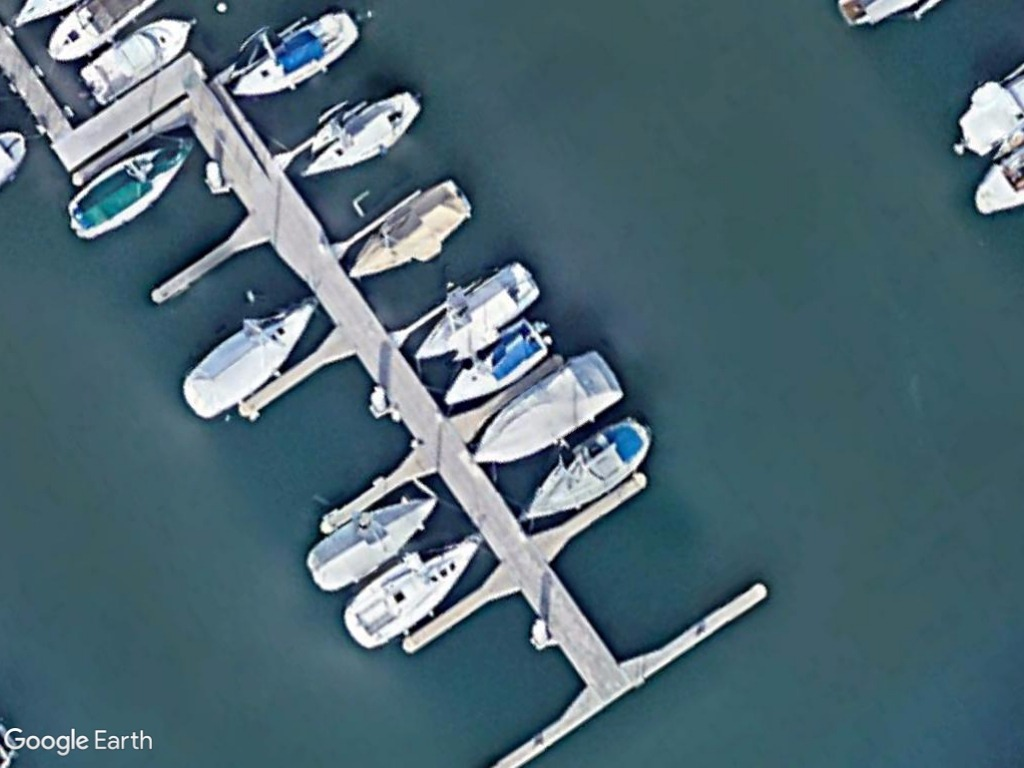boat: (175, 295, 318, 422), (469, 348, 626, 462), (342, 536, 480, 651), (517, 415, 653, 527), (63, 132, 195, 241), (302, 493, 442, 595), (345, 173, 472, 284), (410, 259, 543, 363), (229, 7, 363, 99), (296, 88, 421, 180), (438, 313, 550, 411), (78, 15, 195, 107)
